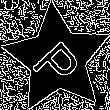P_NE: (26, 28, 88, 90)
